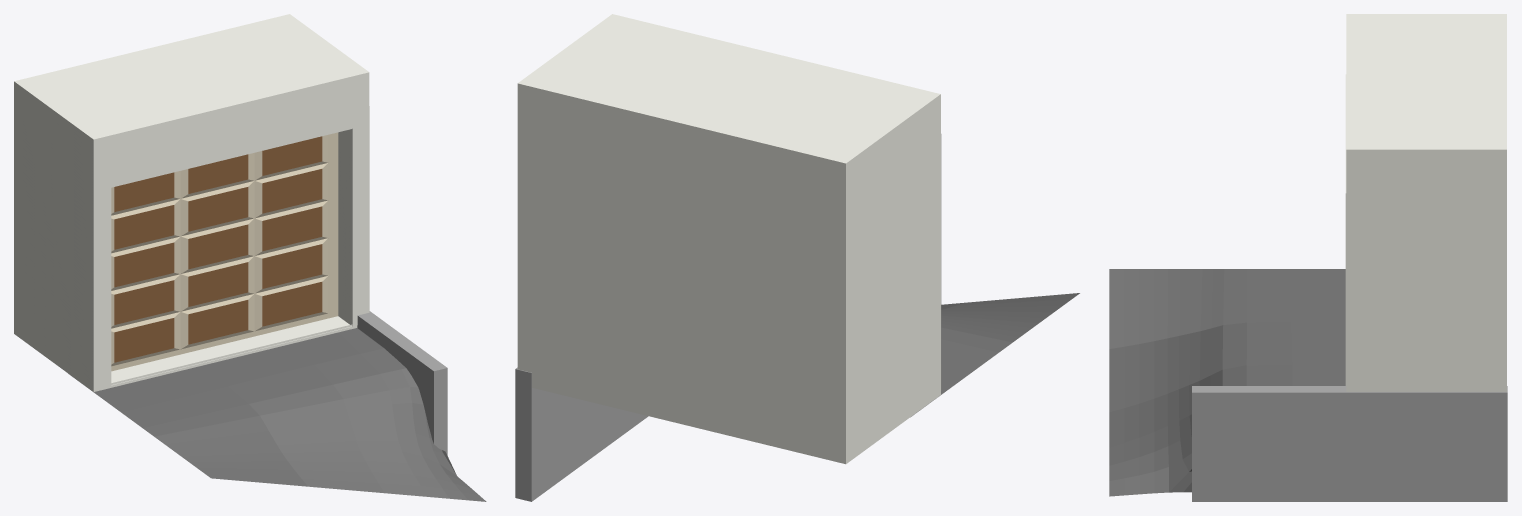
File: garage_with_slope.glb
3 renders of one model, left to right at view 1: azimuth 30°, elevation 25°; view 2: azimuth 150°, elevation 25°; view 3: azimuth 270°, elevation 25°, orthographic. The views are drawn at different scales.
Parts seen in each view (by area): view 1: Garage-col, driveway-col, retainingwall-col; view 2: Garage-col, retainingwall-col, driveway-col; view 3: Garage-col, driveway-col, retainingwall-col.
Boxes of the visible parts, bbox=[...] form: Garage-col: bbox=[14, 14, 369, 391]; driveway-col: bbox=[69, 328, 486, 501]; retainingwall-col: bbox=[357, 311, 447, 455]; Garage-col: bbox=[517, 14, 941, 464]; retainingwall-col: bbox=[515, 367, 648, 501]; driveway-col: bbox=[910, 293, 1079, 417]; Garage-col: bbox=[1345, 14, 1506, 391]; driveway-col: bbox=[1109, 269, 1345, 496]; retainingwall-col: bbox=[1192, 386, 1507, 501].
Size of the model in its own units: 4.02 by 4.83 by 4.96.
1 material, 1 textured.
